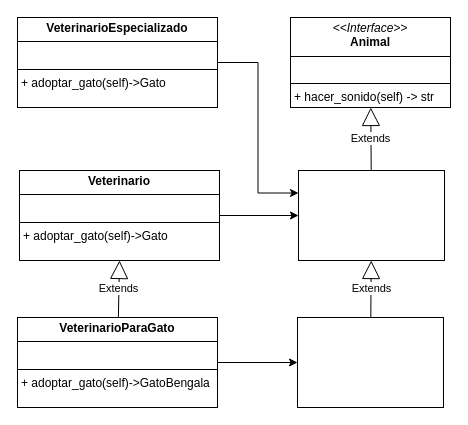
This 468x425 diagram has some shape labels left out. Each missing label, with the centre of its shape:
"Gato + hacer_sonido(self)-> str" goes at point (371, 215).
"GatoBengala + hacer_sonido(self)-> str" goes at point (370, 362).
